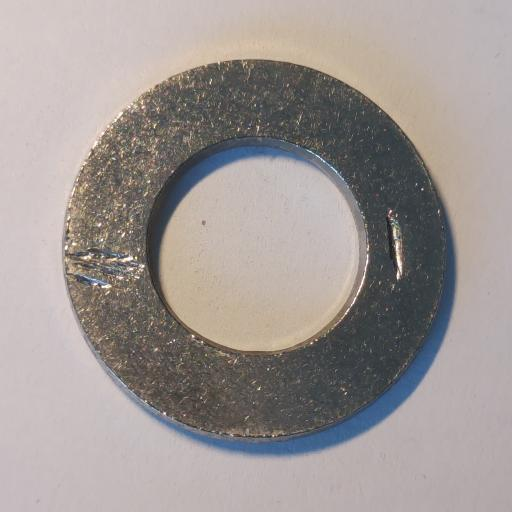scratch: (65, 248, 146, 289), (386, 209, 404, 282)
